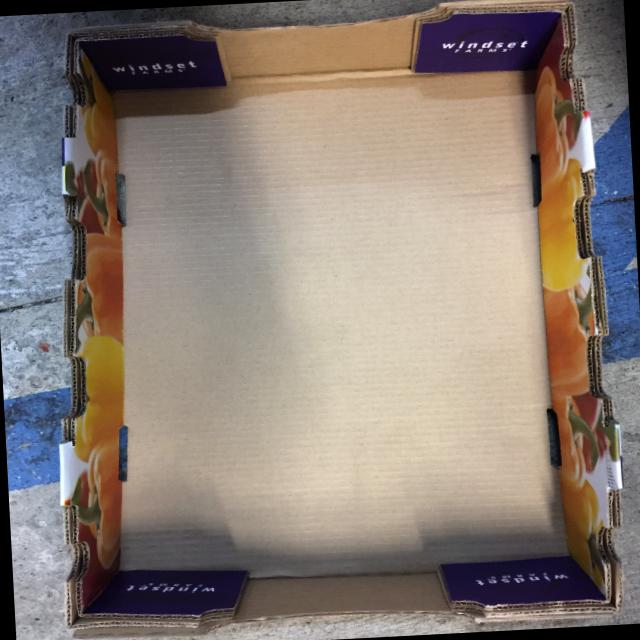Cardboard: (42, 0, 628, 640)
